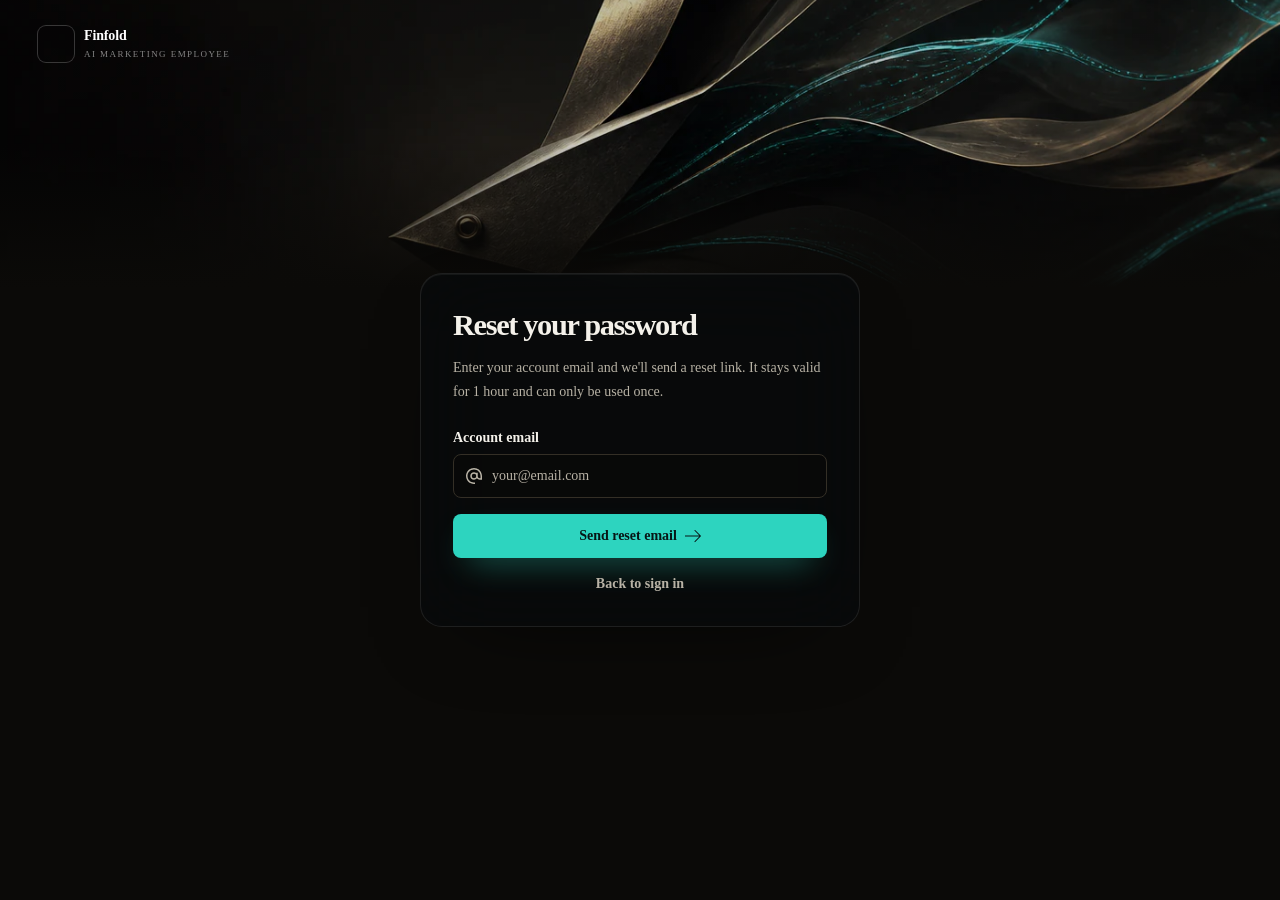
Test case: PasswordRecoveryPanel request mode › blocks submission while the provider cooldown is active
The image size is (1280, 900).
Type "person@example.com" into the field with test id "forgot-password-email".
click(653, 476); type("person@example.com")  # box [492, 456, 814, 496]
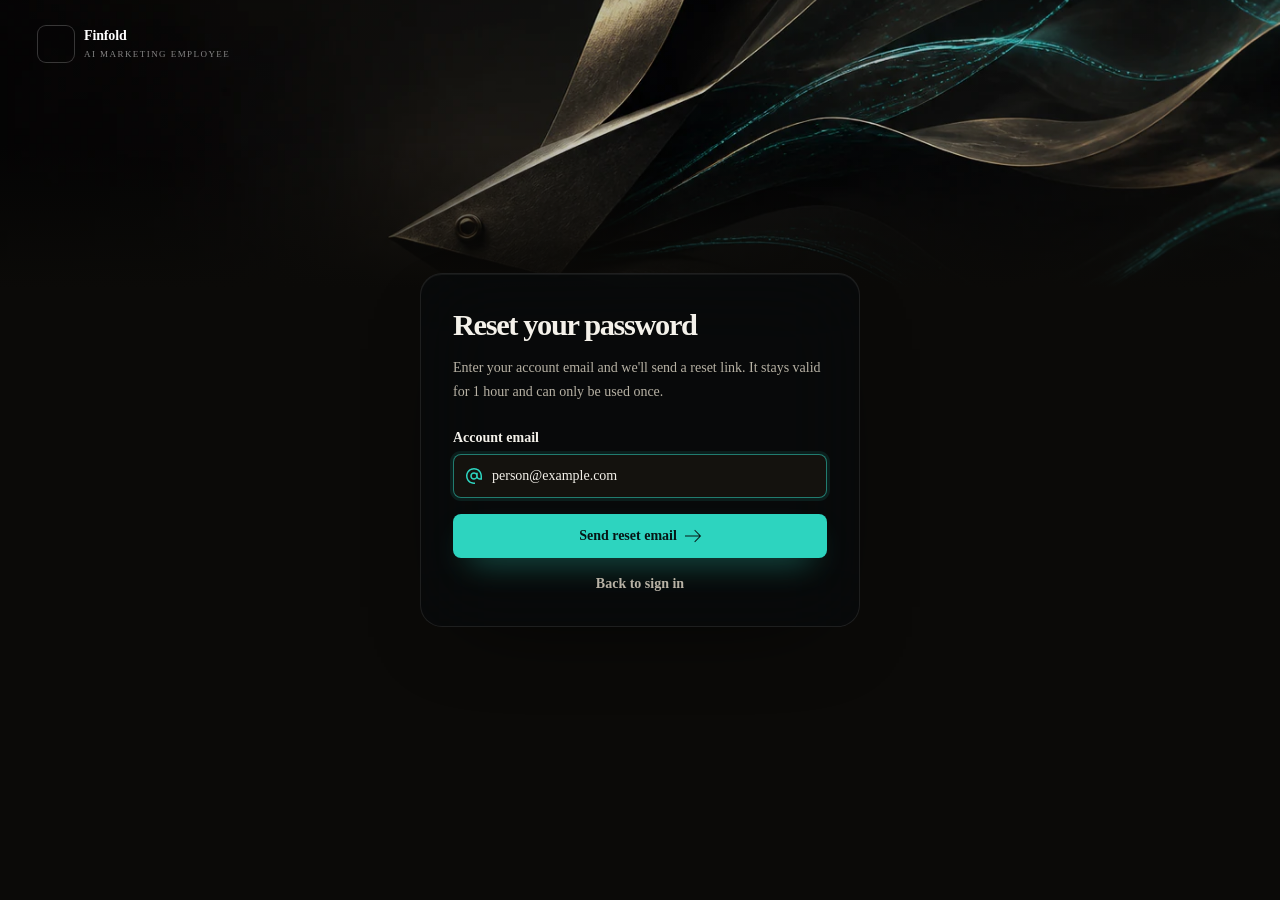
Click the button with test id "forgot-password-submit".
click(640, 536)  # box [453, 514, 827, 558]
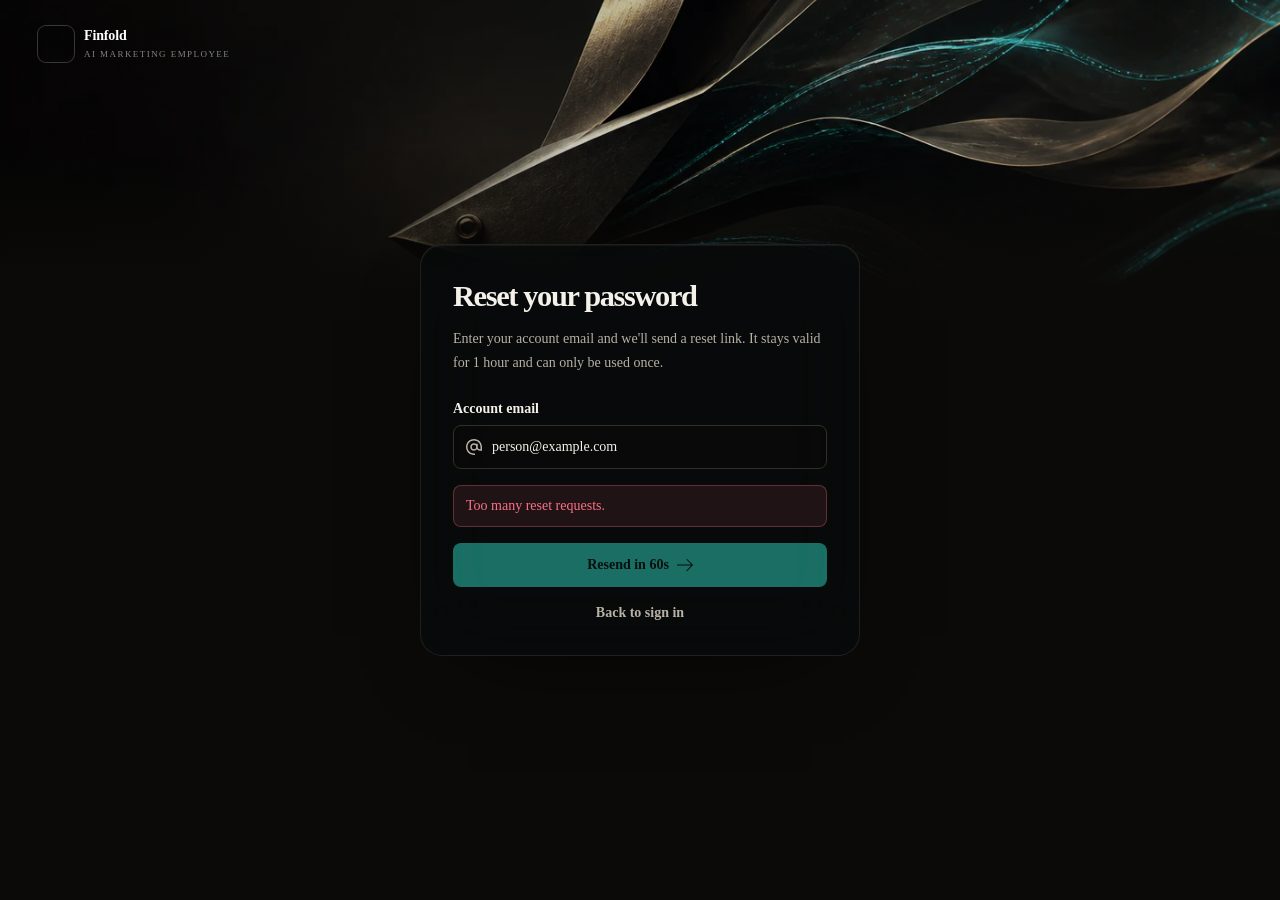
Check: the text "Too many reset requests." is shown, box [453, 485, 827, 527]
Check: the button with test id "forgot-password-submit" is disabled, box [453, 543, 827, 587]
